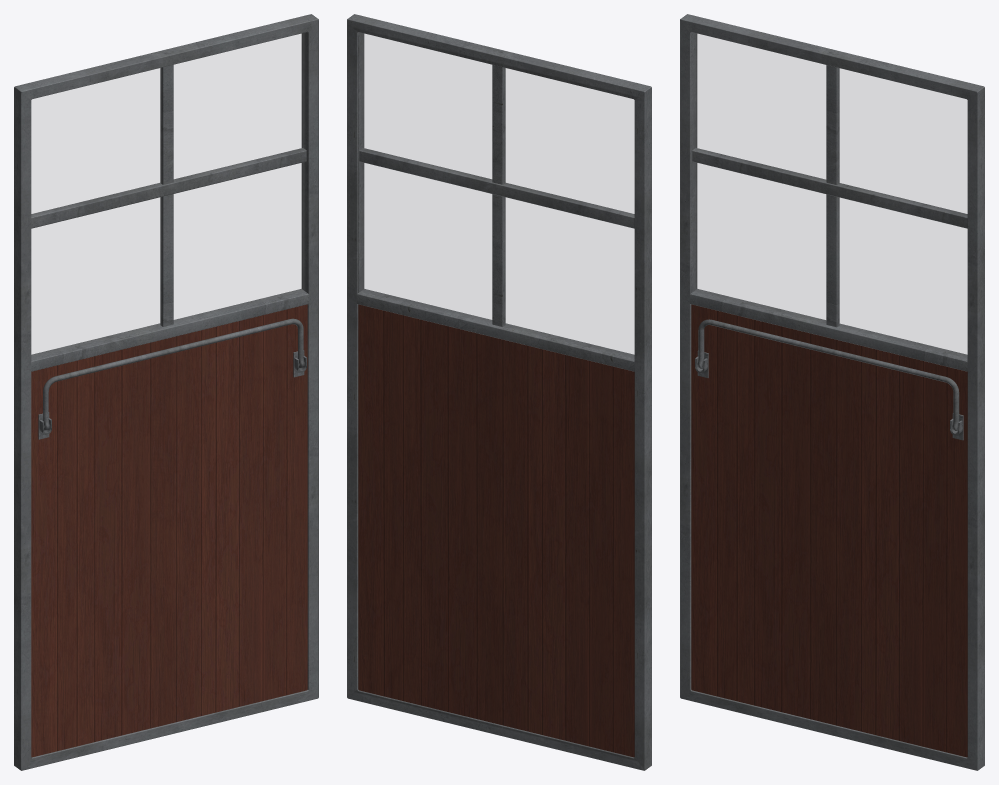
The model's file is Pen_01_Wall_Door_Door.fbx.
3 renders of one model, left to right at view 1: azimuth 30°, elevation 25°; view 2: azimuth 150°, elevation 25°; view 3: azimuth 330°, elevation 25°, orthographic.
Visible parts, largest first — view 1: Pen_01_Wall_Door_Door; view 2: Pen_01_Wall_Door_Door; view 3: Pen_01_Wall_Door_Door.
Boxes of the visible parts, x1,y1,x2,y2 form: Pen_01_Wall_Door_Door: (14, 14, 318, 770); Pen_01_Wall_Door_Door: (347, 14, 651, 770); Pen_01_Wall_Door_Door: (680, 14, 984, 770).
Size of the model in its own units: 117 by 254 by 7.38.
